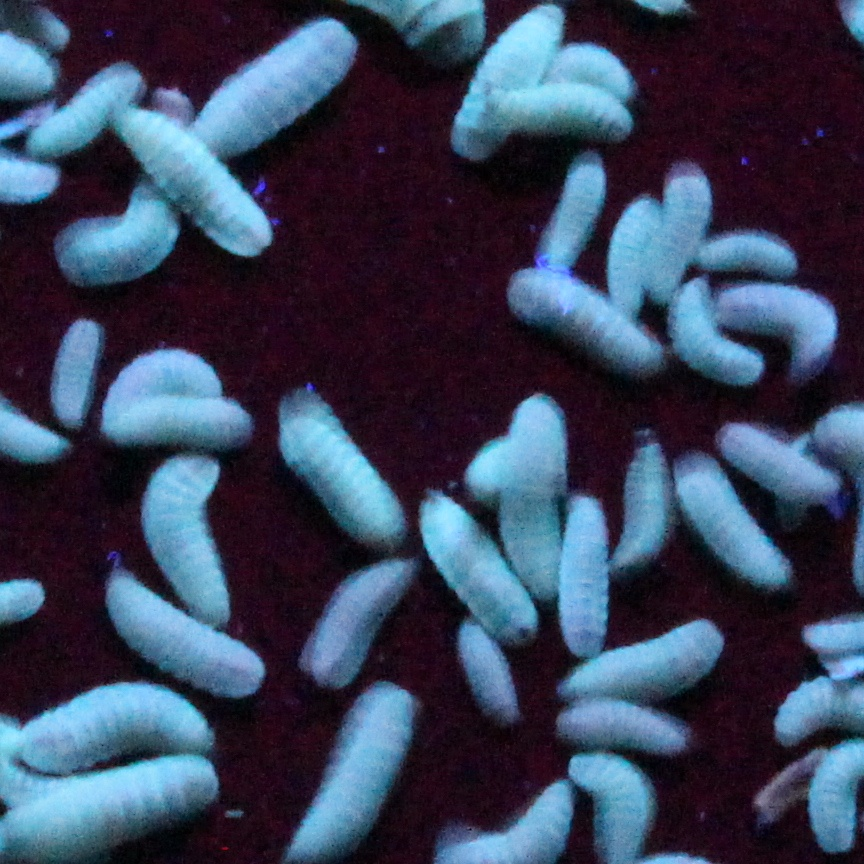larve: (277, 677, 411, 857), (5, 754, 225, 857), (268, 389, 414, 543), (194, 29, 377, 149), (100, 569, 259, 700), (137, 114, 279, 243), (434, 12, 551, 149), (422, 497, 537, 626), (519, 283, 659, 386), (562, 626, 725, 700), (685, 466, 791, 574), (145, 469, 220, 620), (722, 423, 837, 512), (71, 186, 177, 280), (554, 494, 614, 649), (605, 446, 677, 569), (539, 160, 599, 274), (111, 400, 257, 446), (48, 323, 105, 420), (565, 706, 688, 746), (465, 632, 519, 709), (611, 200, 645, 303)
